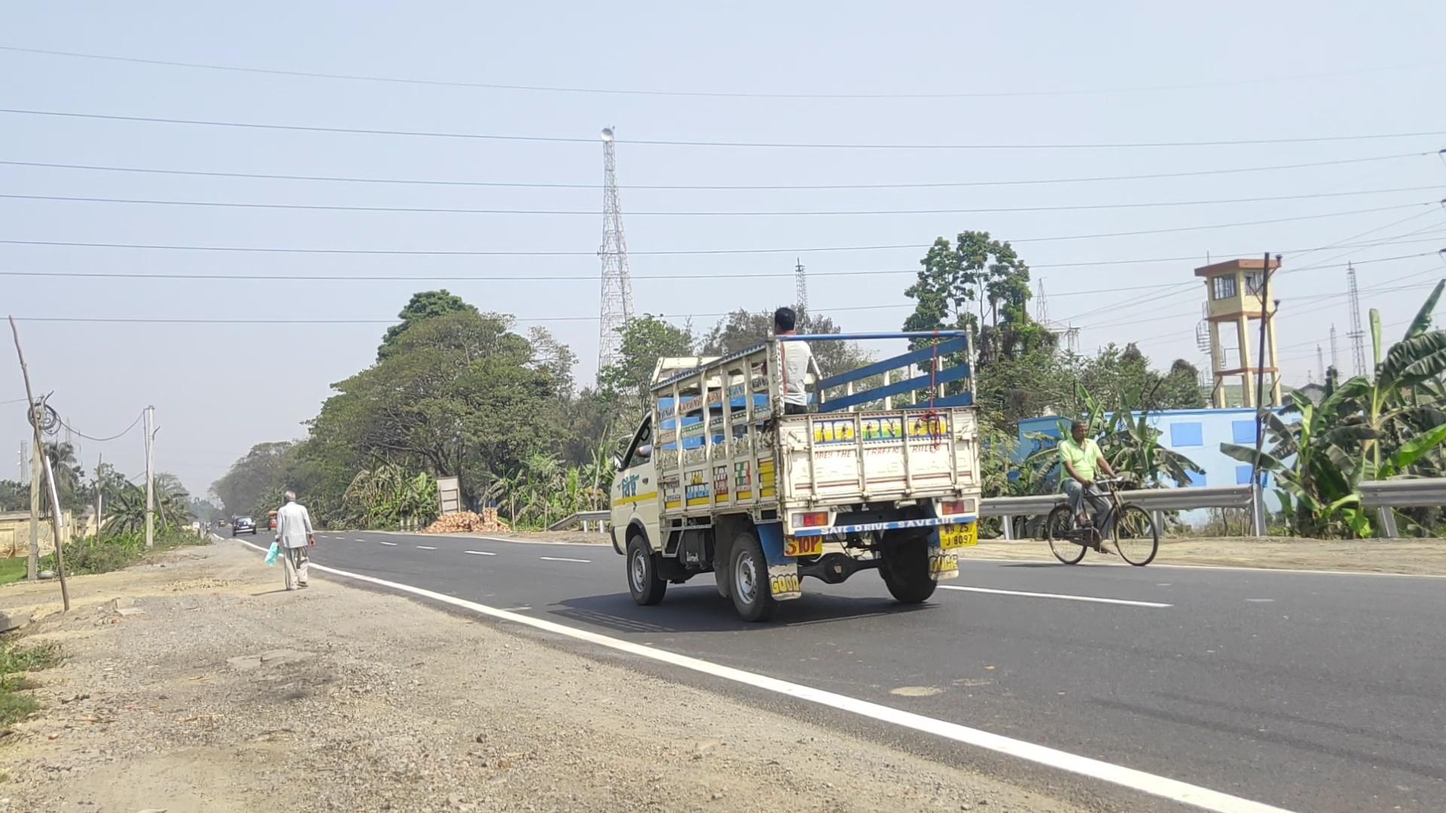bike: (1046, 419, 1159, 567)
car: (232, 515, 257, 537)
van: (610, 306, 982, 621)
